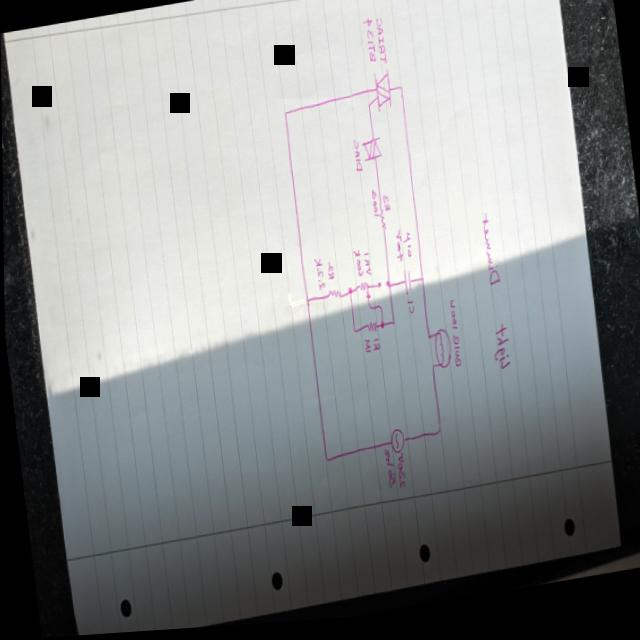capacitor: (400, 270, 413, 302)
junction: (433, 426, 440, 442), (384, 282, 391, 295), (347, 289, 353, 302), (304, 297, 311, 308), (282, 110, 289, 121), (322, 458, 329, 468), (378, 324, 385, 334), (366, 307, 373, 317), (374, 285, 381, 295), (418, 279, 424, 289), (351, 330, 357, 339), (377, 306, 382, 316), (398, 88, 403, 97), (366, 107, 372, 114), (390, 324, 395, 332), (430, 367, 435, 375), (425, 338, 430, 346)
resistor: (355, 283, 371, 306), (377, 208, 387, 238), (326, 291, 342, 306), (364, 323, 378, 339)
source: (387, 431, 406, 459)
text: (475, 213, 512, 380), (445, 302, 462, 375), (360, 20, 378, 70), (373, 20, 387, 71), (381, 450, 396, 495), (311, 259, 326, 296), (351, 140, 364, 178), (394, 456, 406, 495), (392, 232, 404, 270), (351, 251, 364, 283), (369, 191, 380, 224), (401, 235, 413, 264), (361, 254, 370, 281), (325, 262, 335, 286), (381, 197, 391, 218), (405, 302, 415, 320), (370, 340, 380, 358), (362, 341, 372, 359)
